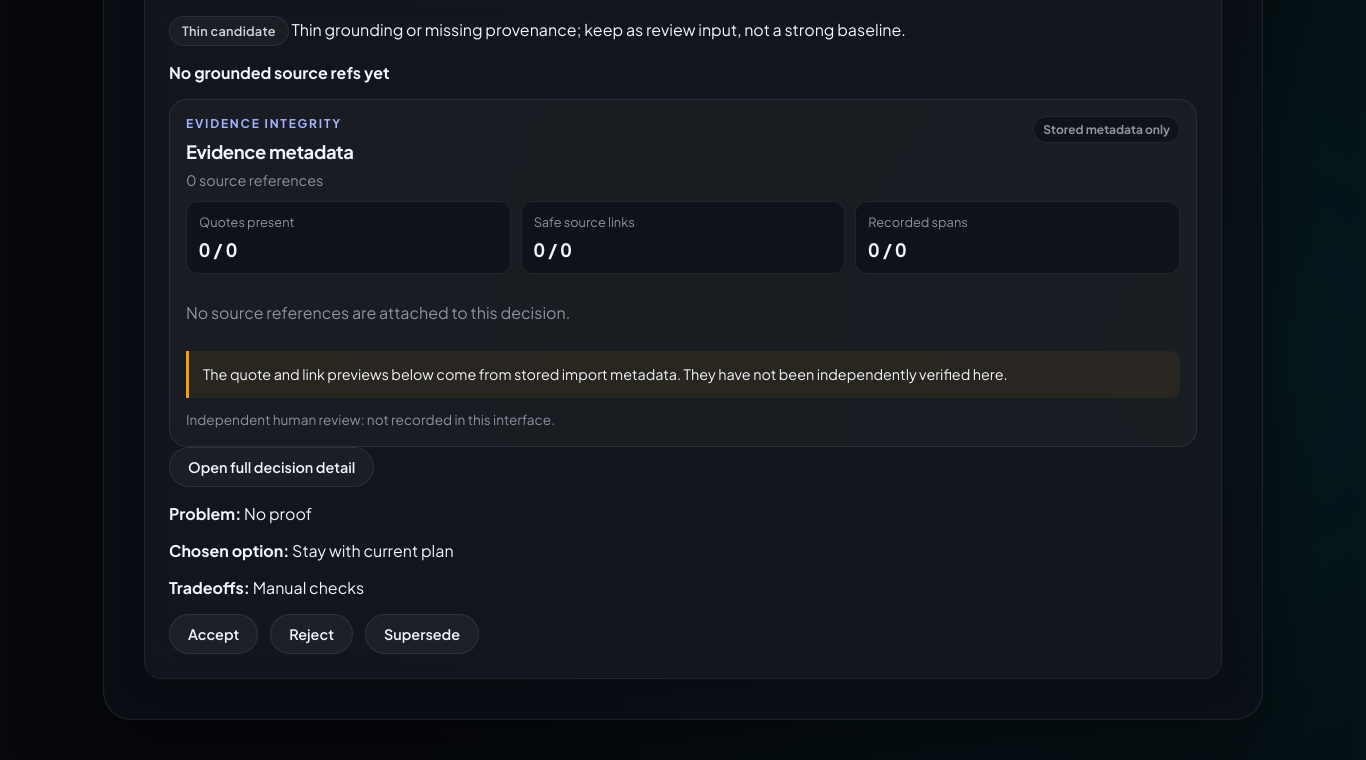
Test: ReviewPageContent › does not report a durable baseline when all candidates were rejected
The image size is (1366, 760).
(page scrolled)
Click the button "Reject". click: [312, 634]
box: x1=270 y1=614 x2=353 y2=654
(page scrolled)
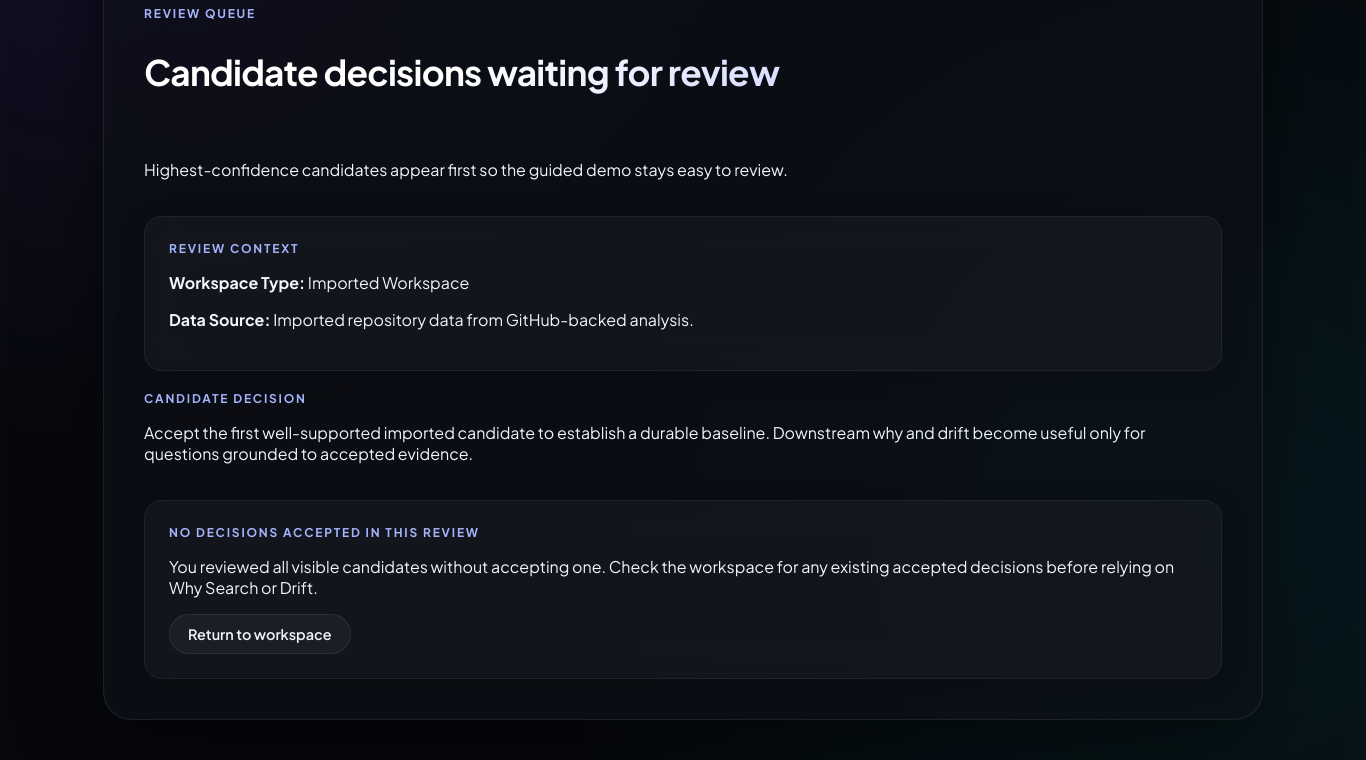
Result: the text "No decisions accepted in this review" is shown at x1=169 y1=525 x2=480 y2=540
